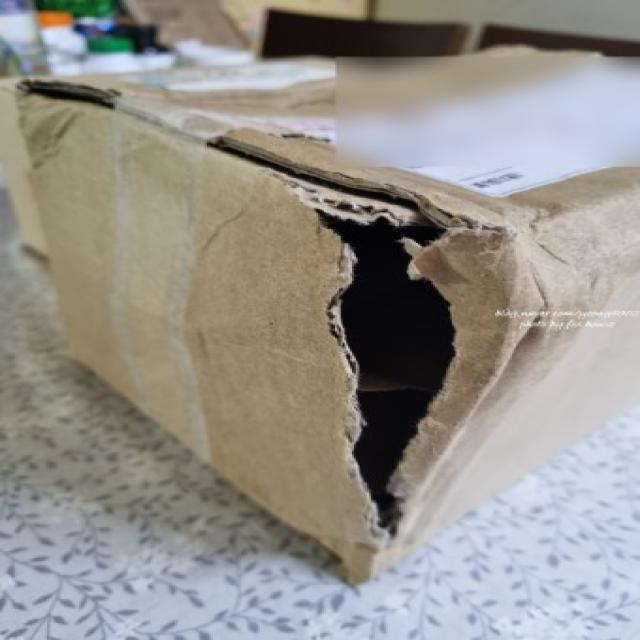damaged: (296, 191, 504, 577)
